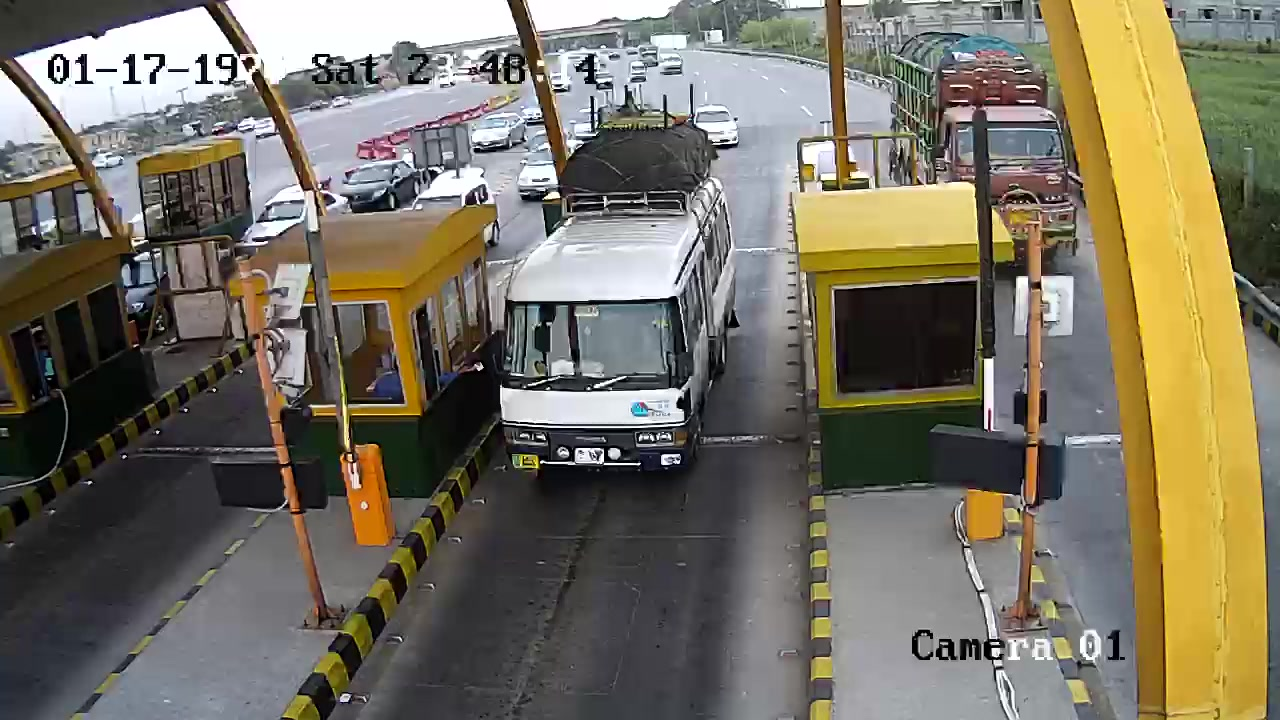F3: (489, 94, 760, 496)
